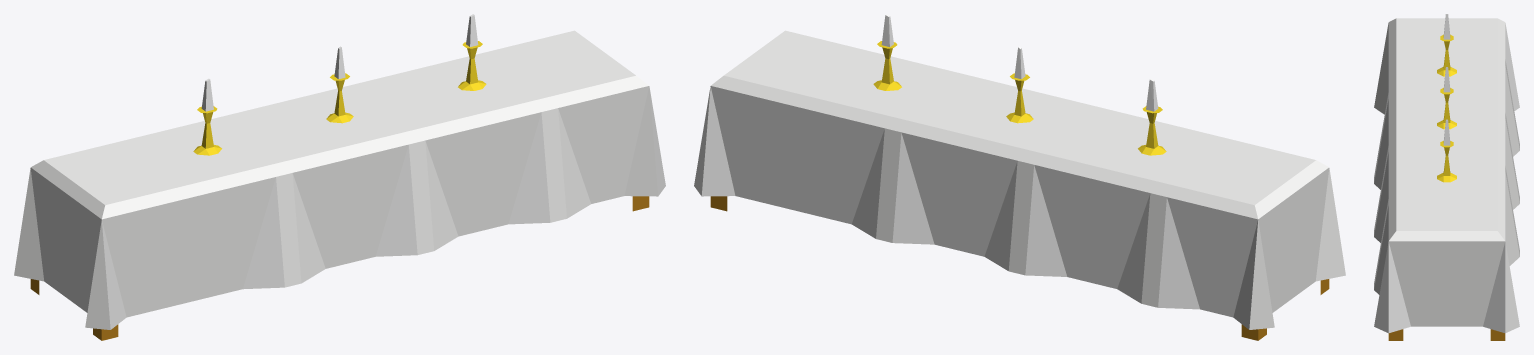
3 views of the same model, side by side, from view 1: azimuth 30°, elevation 25°; view 2: azimuth 150°, elevation 25°; view 3: azimuth 270°, elevation 25° (orthographic). The views are drawn at different scales.
Size of the model in its own units: 490 by 162 by 130.
Materials: 1 (1 with a texture image).
